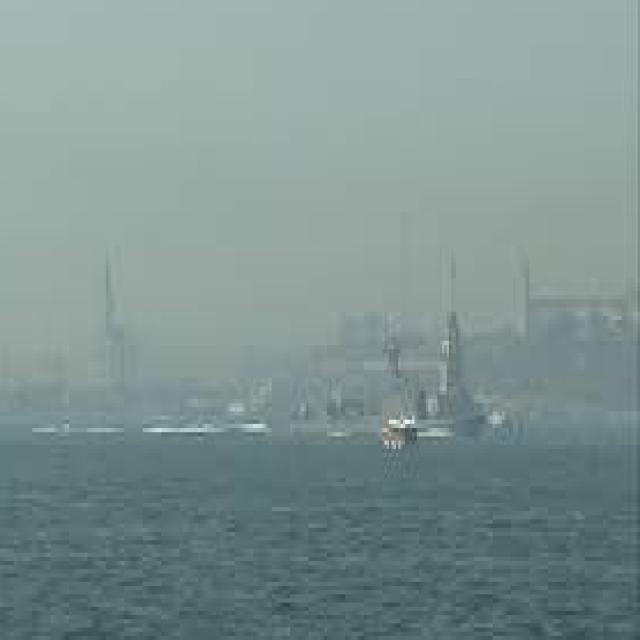cargoship: (366, 405, 416, 470)
